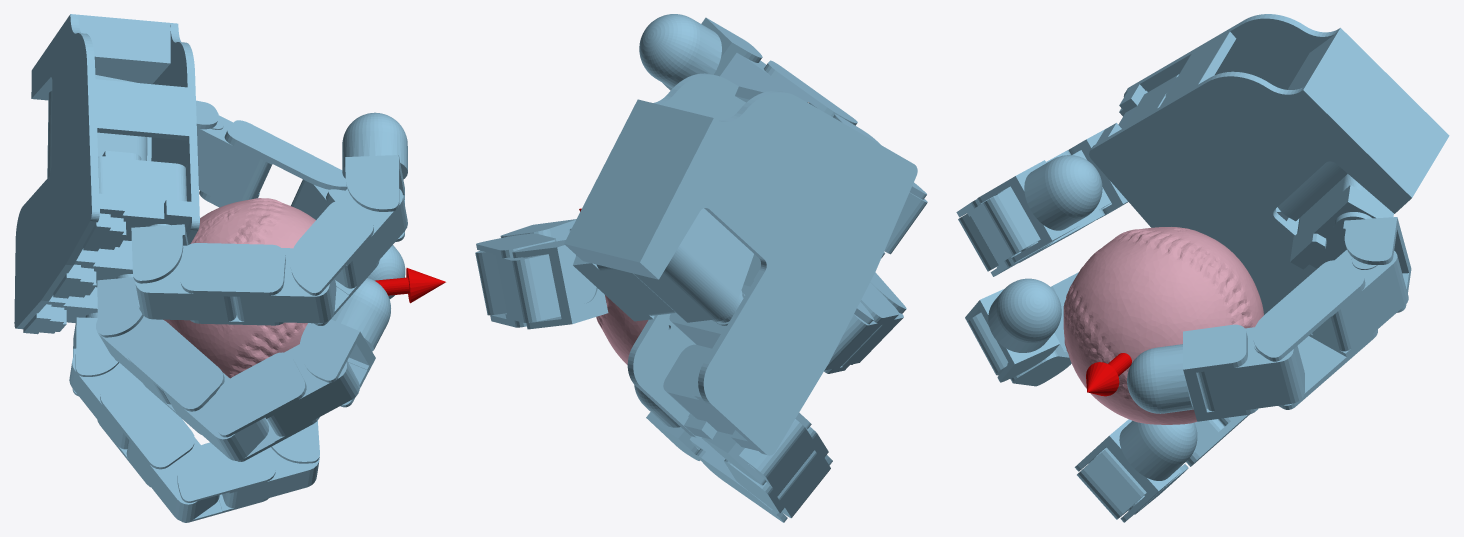
3 renders of one model, left to right at view 1: azimuth 30°, elevation 25°; view 2: azimuth 150°, elevation 25°; view 3: azimuth 270°, elevation 25°, orthographic. The views are drawn at different scales.
Visible parts, largest first — view 1: world, baseball.stl; view 2: world, baseball.stl; view 3: world, baseball.stl.
Part boxes in pixels (x1,y1,x2,y2): world: [14, 14, 445, 522]; baseball.stl: [163, 198, 315, 378]; world: [475, 14, 927, 522]; baseball.stl: [596, 295, 648, 364]; world: [956, 14, 1449, 522]; baseball.stl: [1063, 227, 1263, 424].
Bounding box in the file's own units: 0.1429 × 0.1829 × 0.1782.
